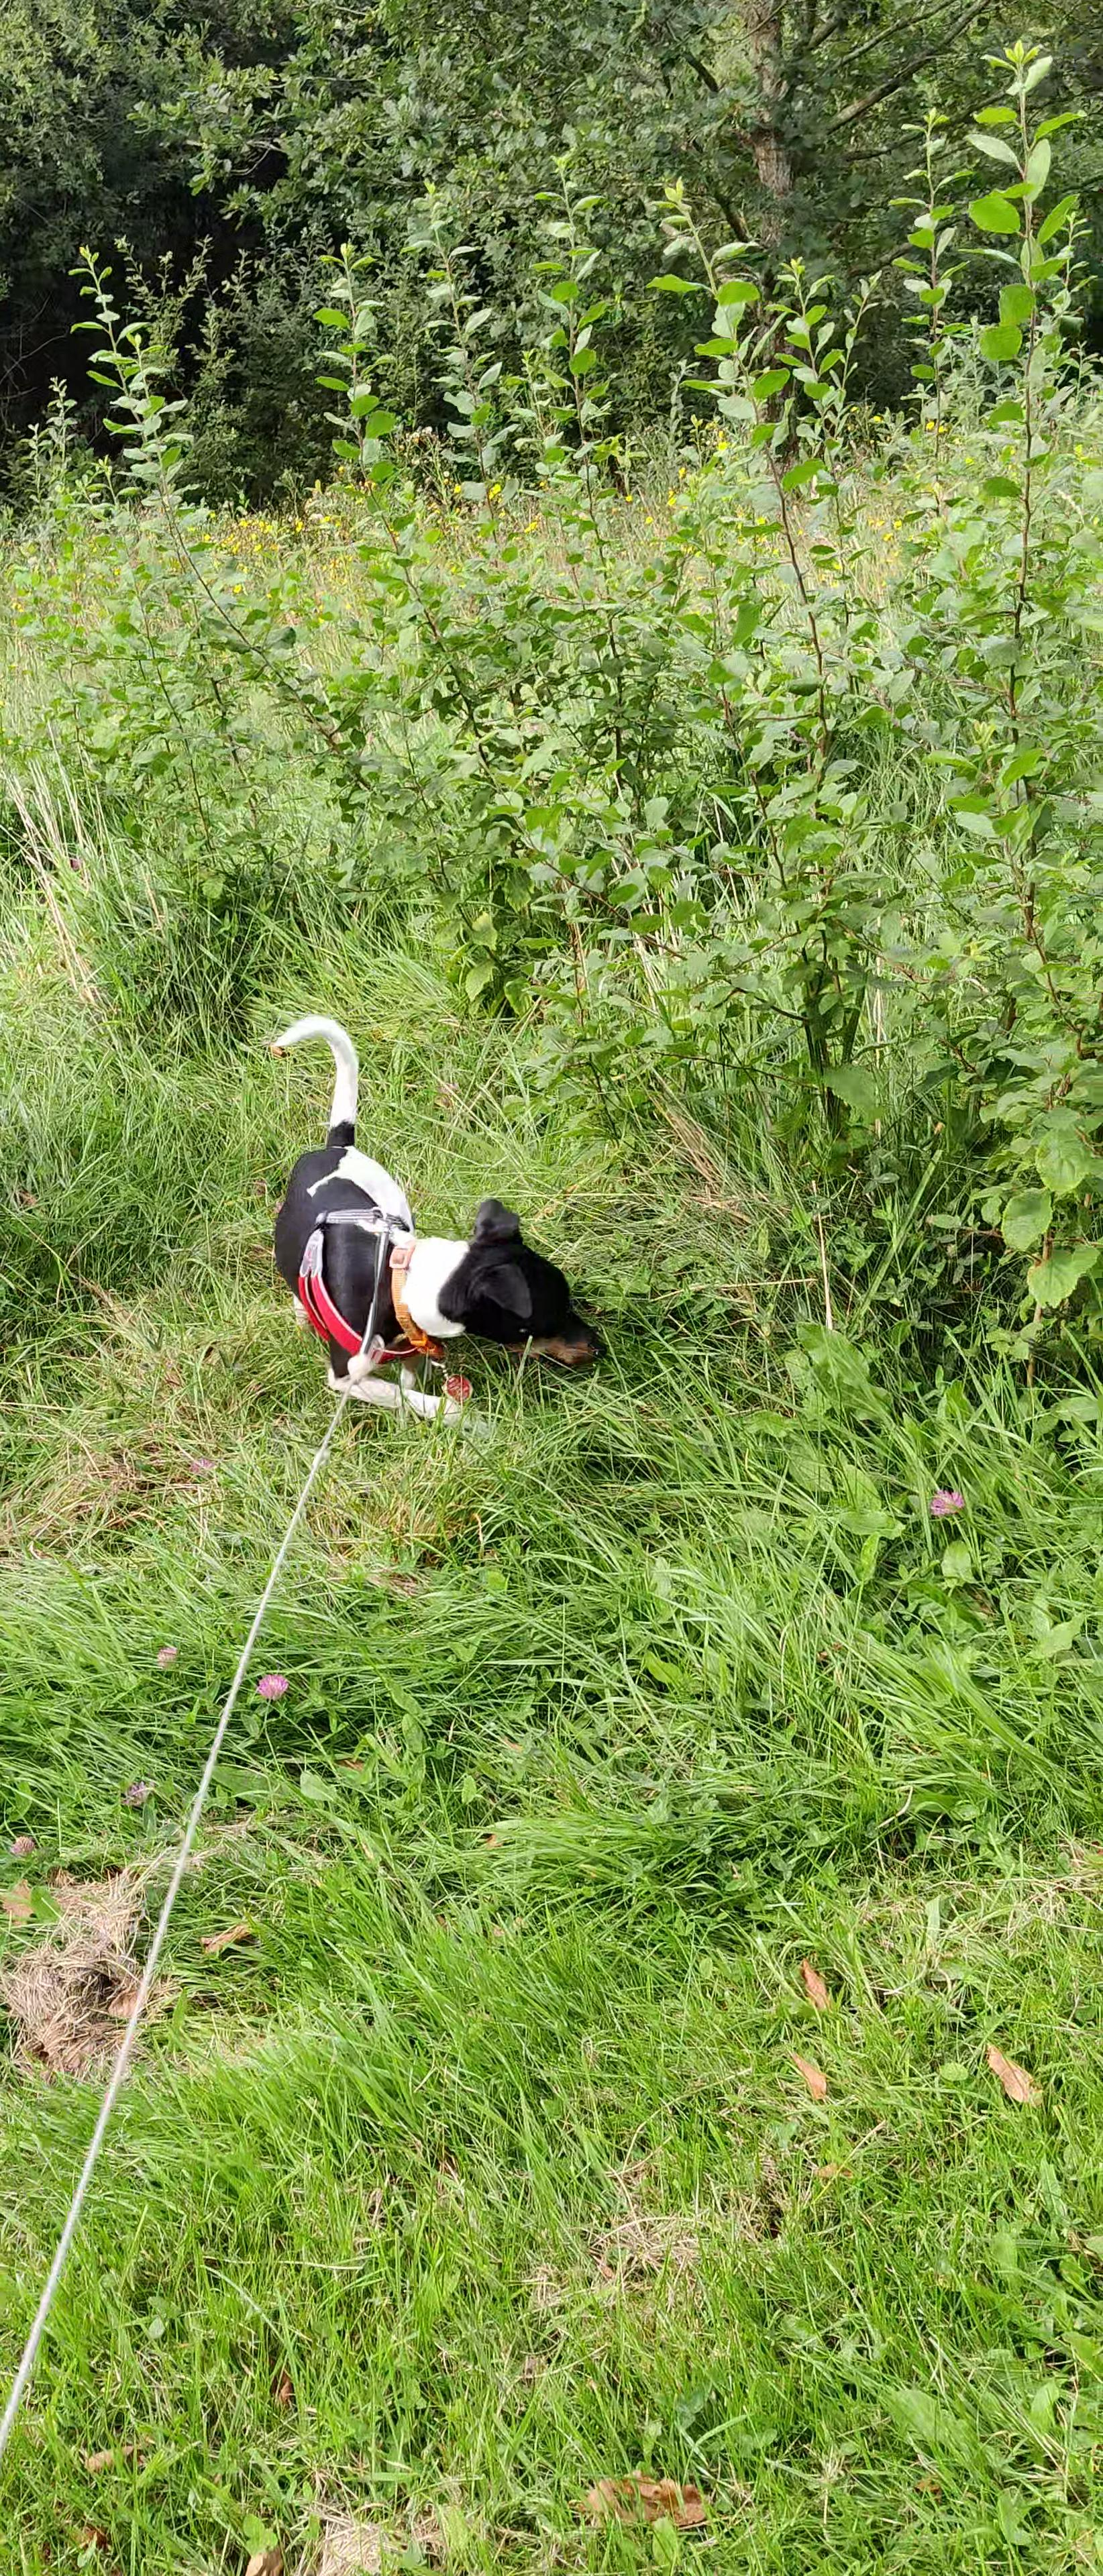Dog: (261, 1005, 615, 1437)
